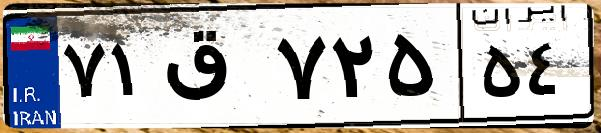1: (110, 28, 158, 98)
2: (330, 28, 385, 110)
4: (525, 38, 570, 115)
5: (385, 28, 445, 110), (475, 38, 525, 113)
7: (270, 28, 330, 110), (57, 26, 110, 100)
ق: (158, 20, 270, 120)
